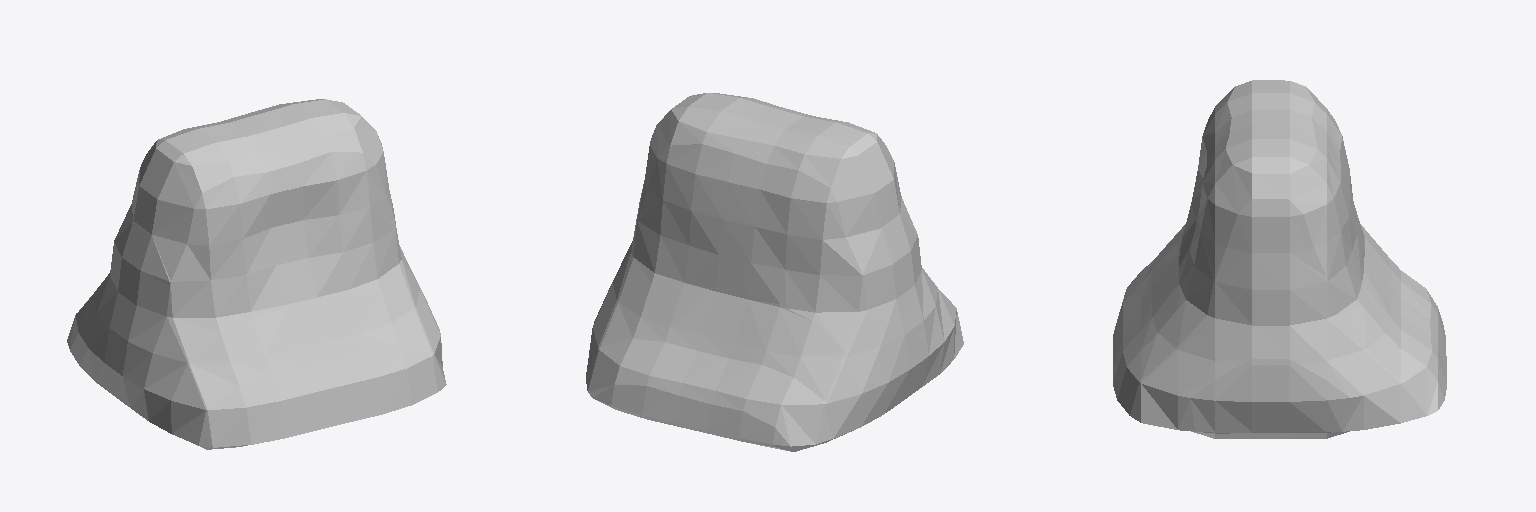
The picture shows the model from 3 angles: view 1: azimuth 30°, elevation 25°; view 2: azimuth 150°, elevation 25°; view 3: azimuth 270°, elevation 25°; orthographic projection.
Visible parts, largest first — view 1: Liquid_Domain; view 2: Liquid_Domain; view 3: Liquid_Domain.
Boxes of the visible parts, <box> form: Liquid_Domain: <box>67,99,446,449</box>; Liquid_Domain: <box>586,93,963,451</box>; Liquid_Domain: <box>1113,80,1446,438</box>.
Size of the model in its own units: 0.7564 by 0.6778 by 0.7454.